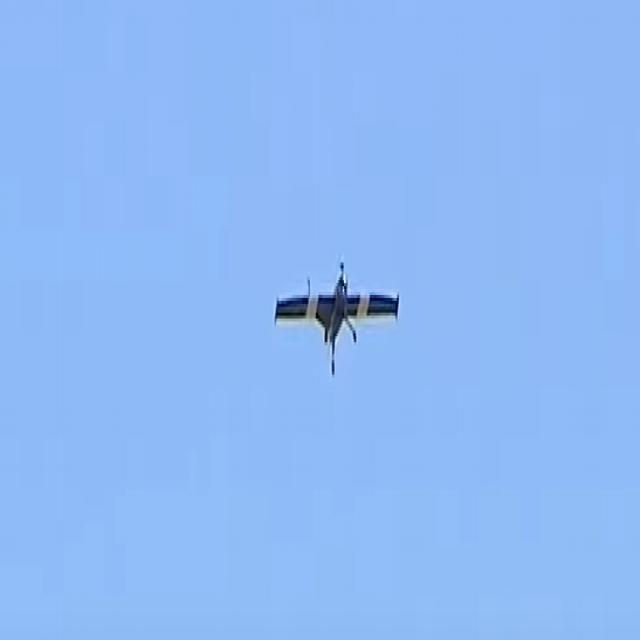Airplane: (274, 255, 404, 376)
